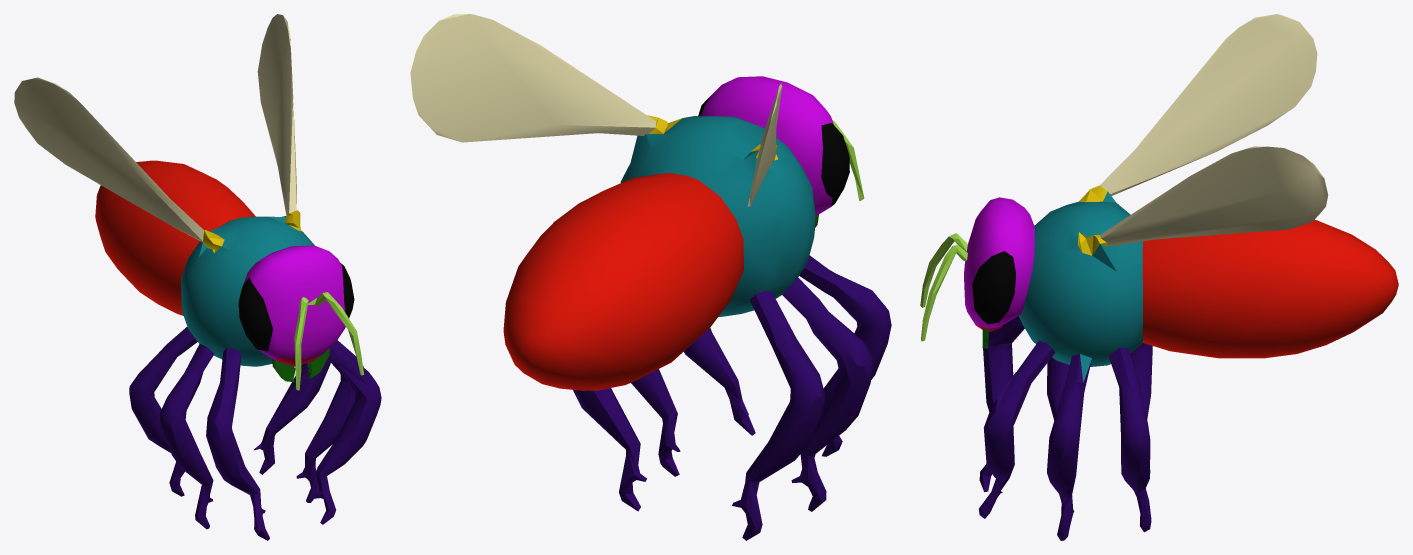
The model's file is Bee_VFX.fbx.
The picture shows the model from 3 angles, left to right: view 1: azimuth 30°, elevation 25°; view 2: azimuth 150°, elevation 25°; view 3: azimuth 270°, elevation 25°; orthographic projection. The views are drawn at different scales.
Visible parts, largest first — view 1: Bee.002; view 2: Bee.002; view 3: Bee.002.
Part boxes in pixels (x1=…): Bee.002: x1=14, y1=14, x2=381, y2=540; Bee.002: x1=410, y1=14, x2=891, y2=540; Bee.002: x1=920, y1=14, x2=1398, y2=540.
Bounding box in the file's own units: 102 × 149 × 148.
